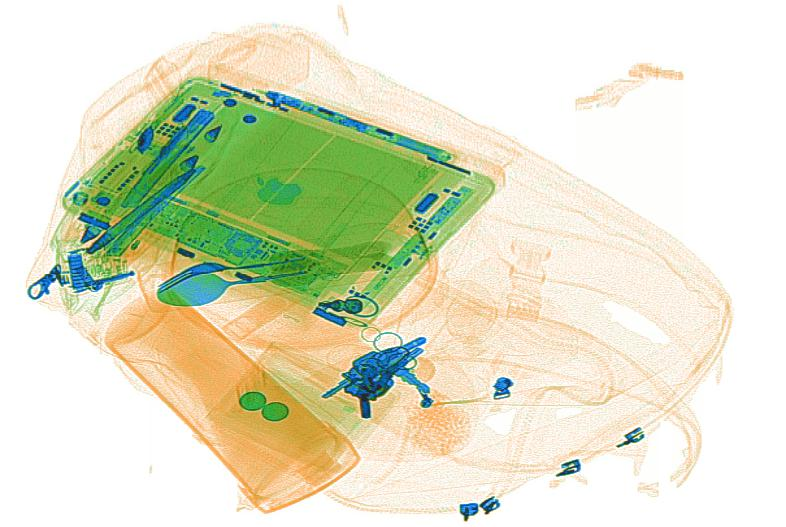knife: (117, 106, 217, 209)
